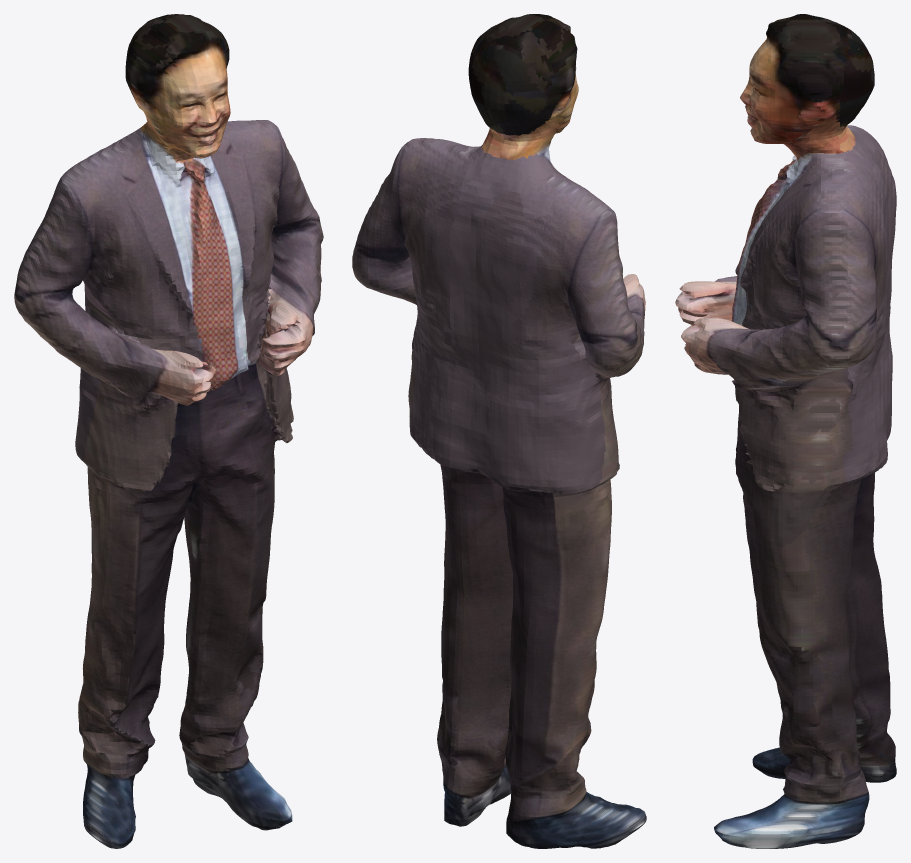
Rendered from NguyenVanThao.fbx.
The picture shows the model from 3 angles, left to right: view 1: azimuth 30°, elevation 25°; view 2: azimuth 150°, elevation 25°; view 3: azimuth 270°, elevation 25°; orthographic projection.
Parts seen in each view (by area): view 1: result_t1_256; view 2: result_t1_256; view 3: result_t1_256.
Boxes of the visible parts, bbox=[...] form: result_t1_256: bbox=[14, 14, 323, 848]; result_t1_256: bbox=[352, 14, 646, 848]; result_t1_256: bbox=[675, 14, 896, 848].
Size of the model in its own units: 67.63 by 178 by 45.16.
1 material, 1 textured.
